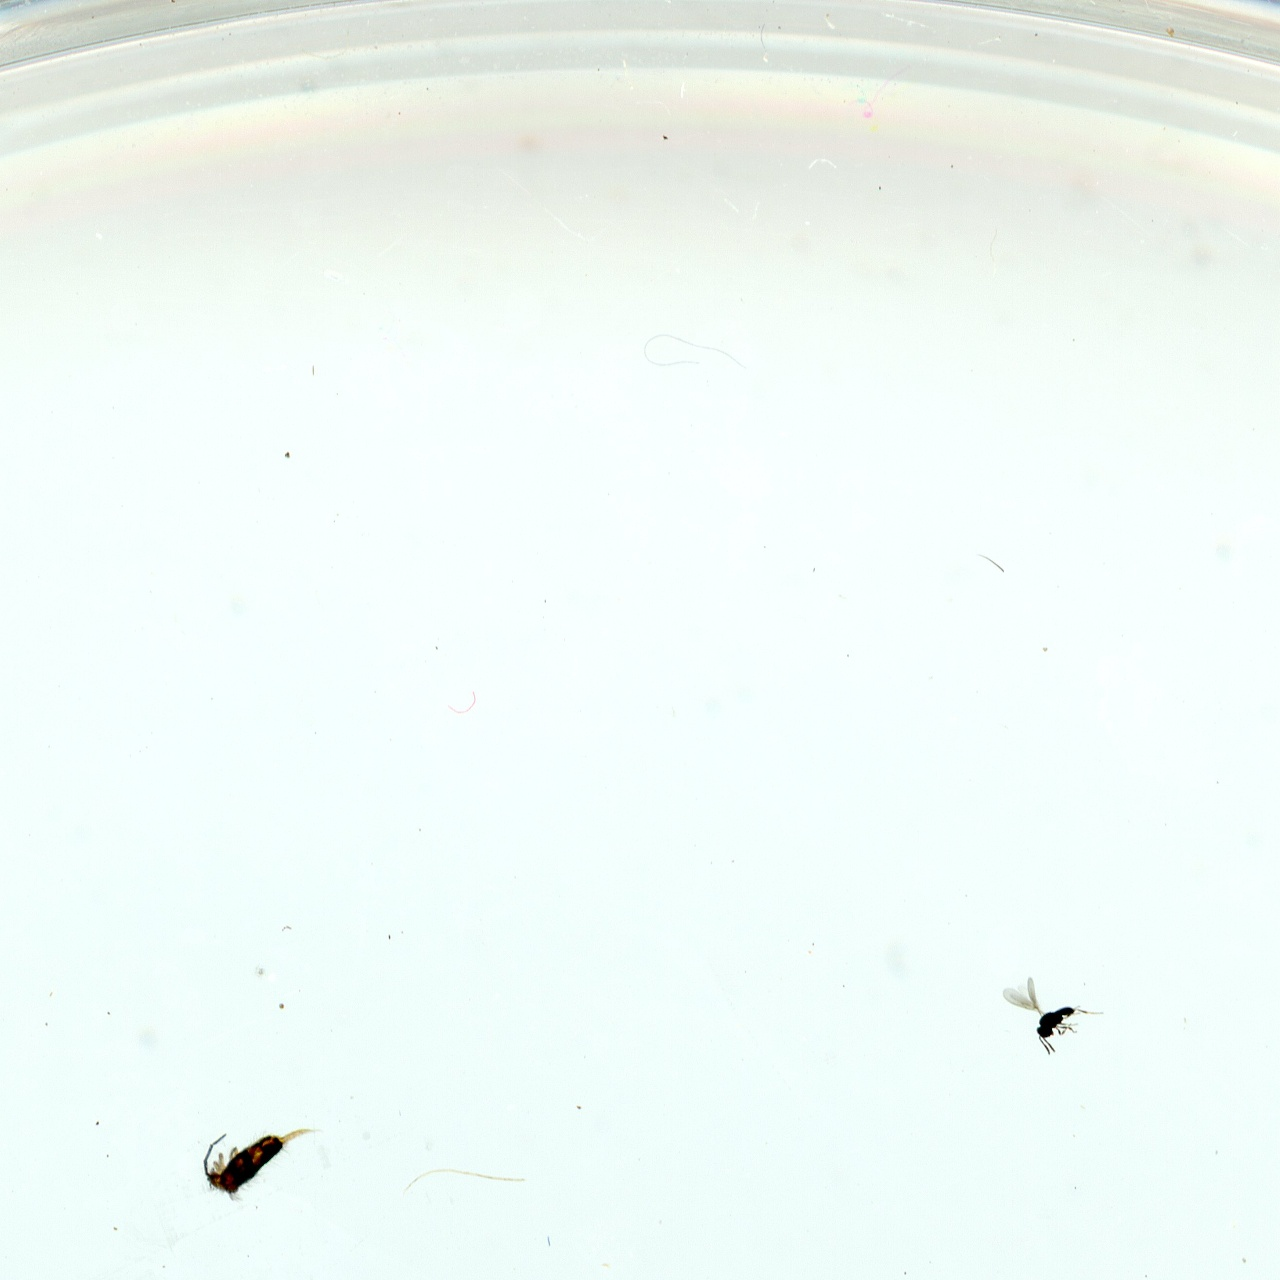arthropod: (196, 1121, 318, 1201), (998, 974, 1103, 1050)
